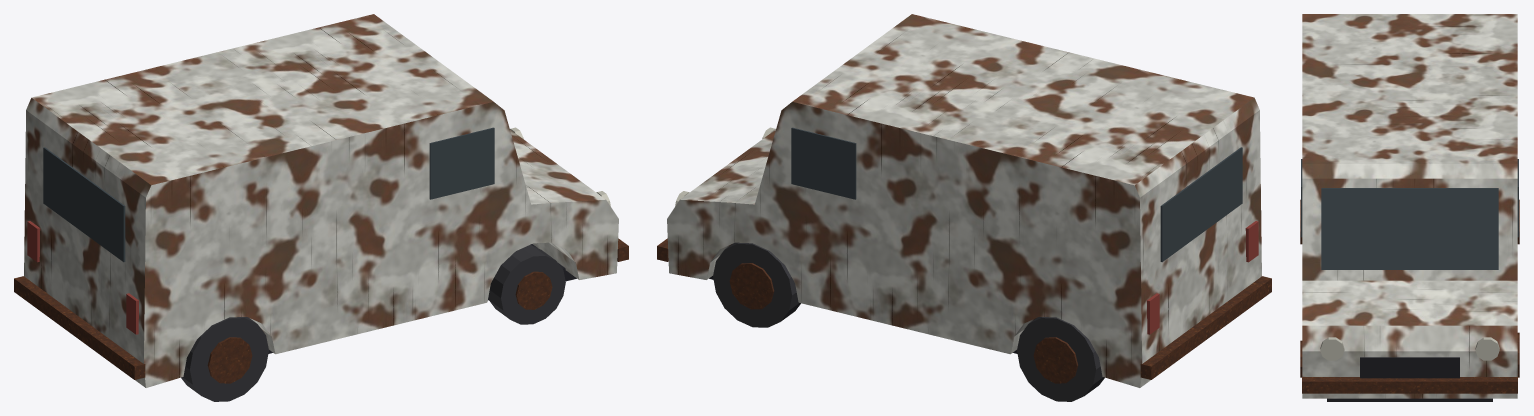
The model's file is car_van_white.glb.
3 renders of one model, left to right at view 1: azimuth 30°, elevation 25°; view 2: azimuth 150°, elevation 25°; view 3: azimuth 270°, elevation 25°, orthographic. The views are drawn at different scales.
Visible parts, largest first — view 1: car_van_white; view 2: car_van_white; view 3: car_van_white.
Part boxes in pixels (bbox=[...]): car_van_white: bbox=[14, 14, 628, 401]; car_van_white: bbox=[657, 14, 1271, 401]; car_van_white: bbox=[1300, 14, 1519, 401].
Bounding box in the file's own units: 4.62 × 2.1 × 1.98.
7 materials, 2 textured.
